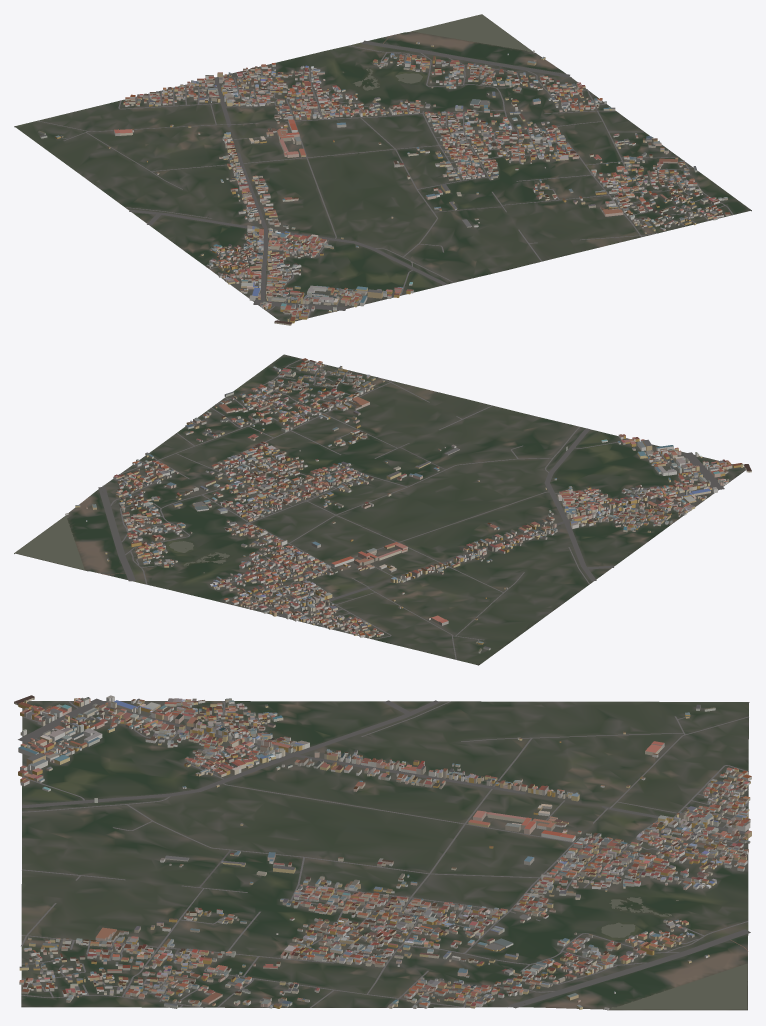
3 views of the same model, one above another, from view 1: azimuth 30°, elevation 25°; view 2: azimuth 150°, elevation 25°; view 3: azimuth 270°, elevation 25° (orthographic). The views are drawn at different scales.
Parts seen in each view (by area): view 1: ground, buildings, roads, water; view 2: ground, buildings, roads, water; view 3: ground, buildings, roads, water.
Part boxes in pixels (x1,y1,x2,y2): ground: [14, 14, 751, 321]; buildings: [38, 41, 730, 325]; roads: [14, 35, 733, 318]; water: [342, 14, 532, 90]; ground: [14, 354, 745, 665]; buildings: [65, 358, 751, 653]; roads: [98, 359, 731, 665]; water: [15, 515, 229, 573]; ground: [21, 701, 748, 1010]; buildings: [14, 695, 751, 1009]; roads: [18, 698, 750, 1008]; water: [601, 897, 747, 1009].
Size of the model in its own units: 1425 by 24.98 by 1424.
